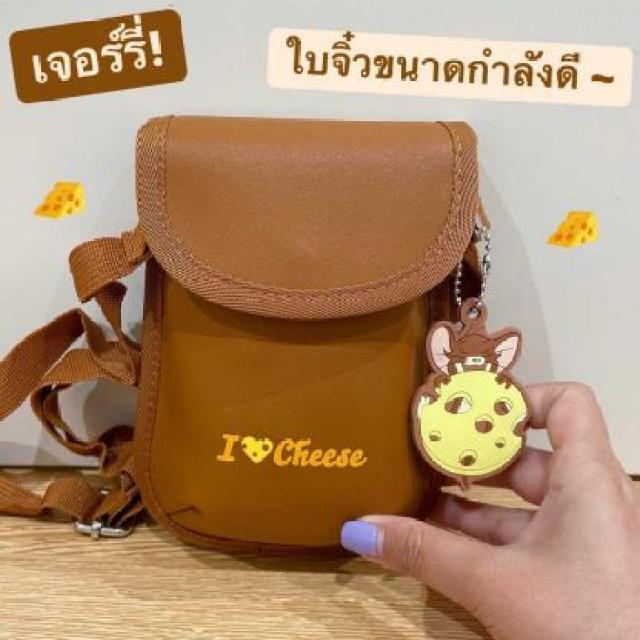Bag: (81, 69, 548, 583)
